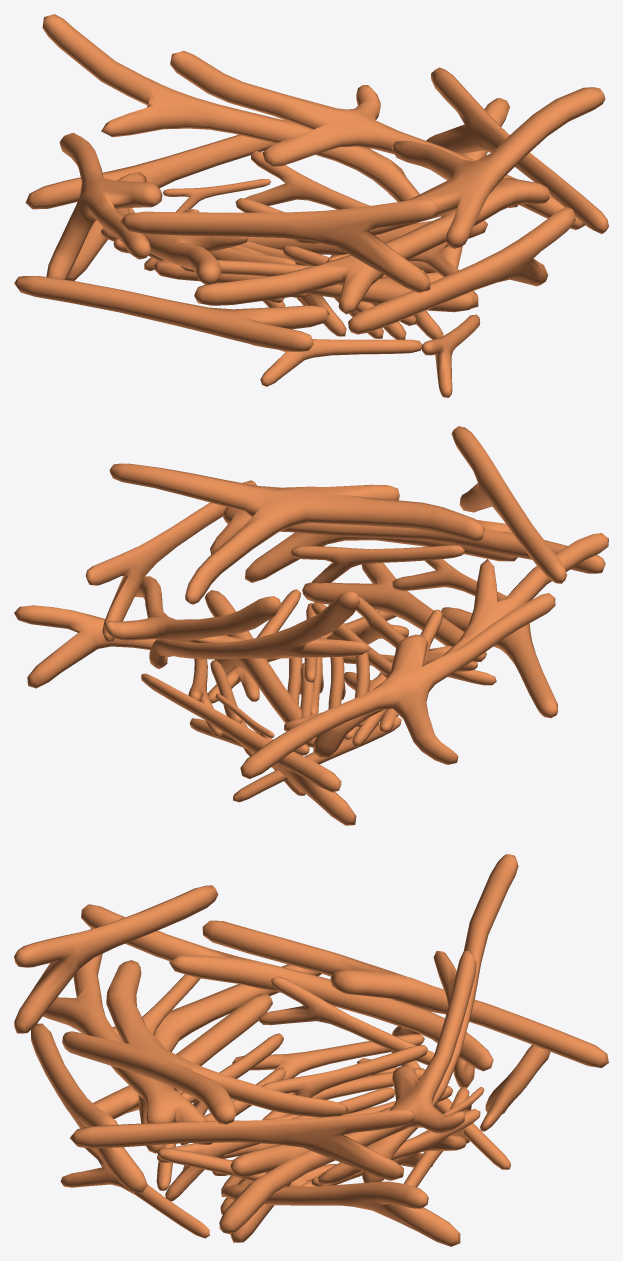
Rendered from Nest.fbx.
The picture shows the model from 3 angles, top to bottom: view 1: azimuth 30°, elevation 25°; view 2: azimuth 150°, elevation 25°; view 3: azimuth 270°, elevation 25°; orthographic projection. The views are drawn at different scales.
Visible parts, largest first — view 1: Nest; view 2: Nest; view 3: Nest.
Part boxes in pixels (<box>): Nest: <box>14,14,608,397</box>; Nest: <box>14,426,608,825</box>; Nest: <box>14,854,608,1246</box>.
Size of the model in its own units: 14.54 by 6.91 by 14.18.
